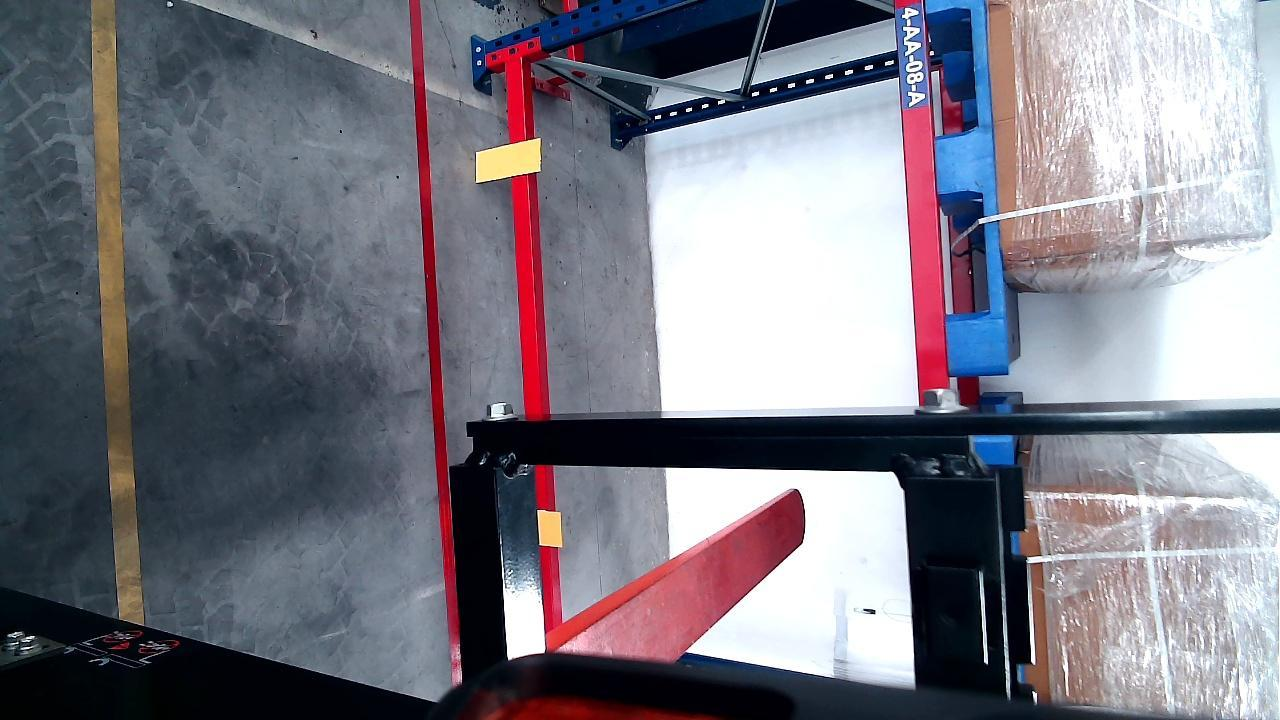red_line: (406, 1, 462, 689)
